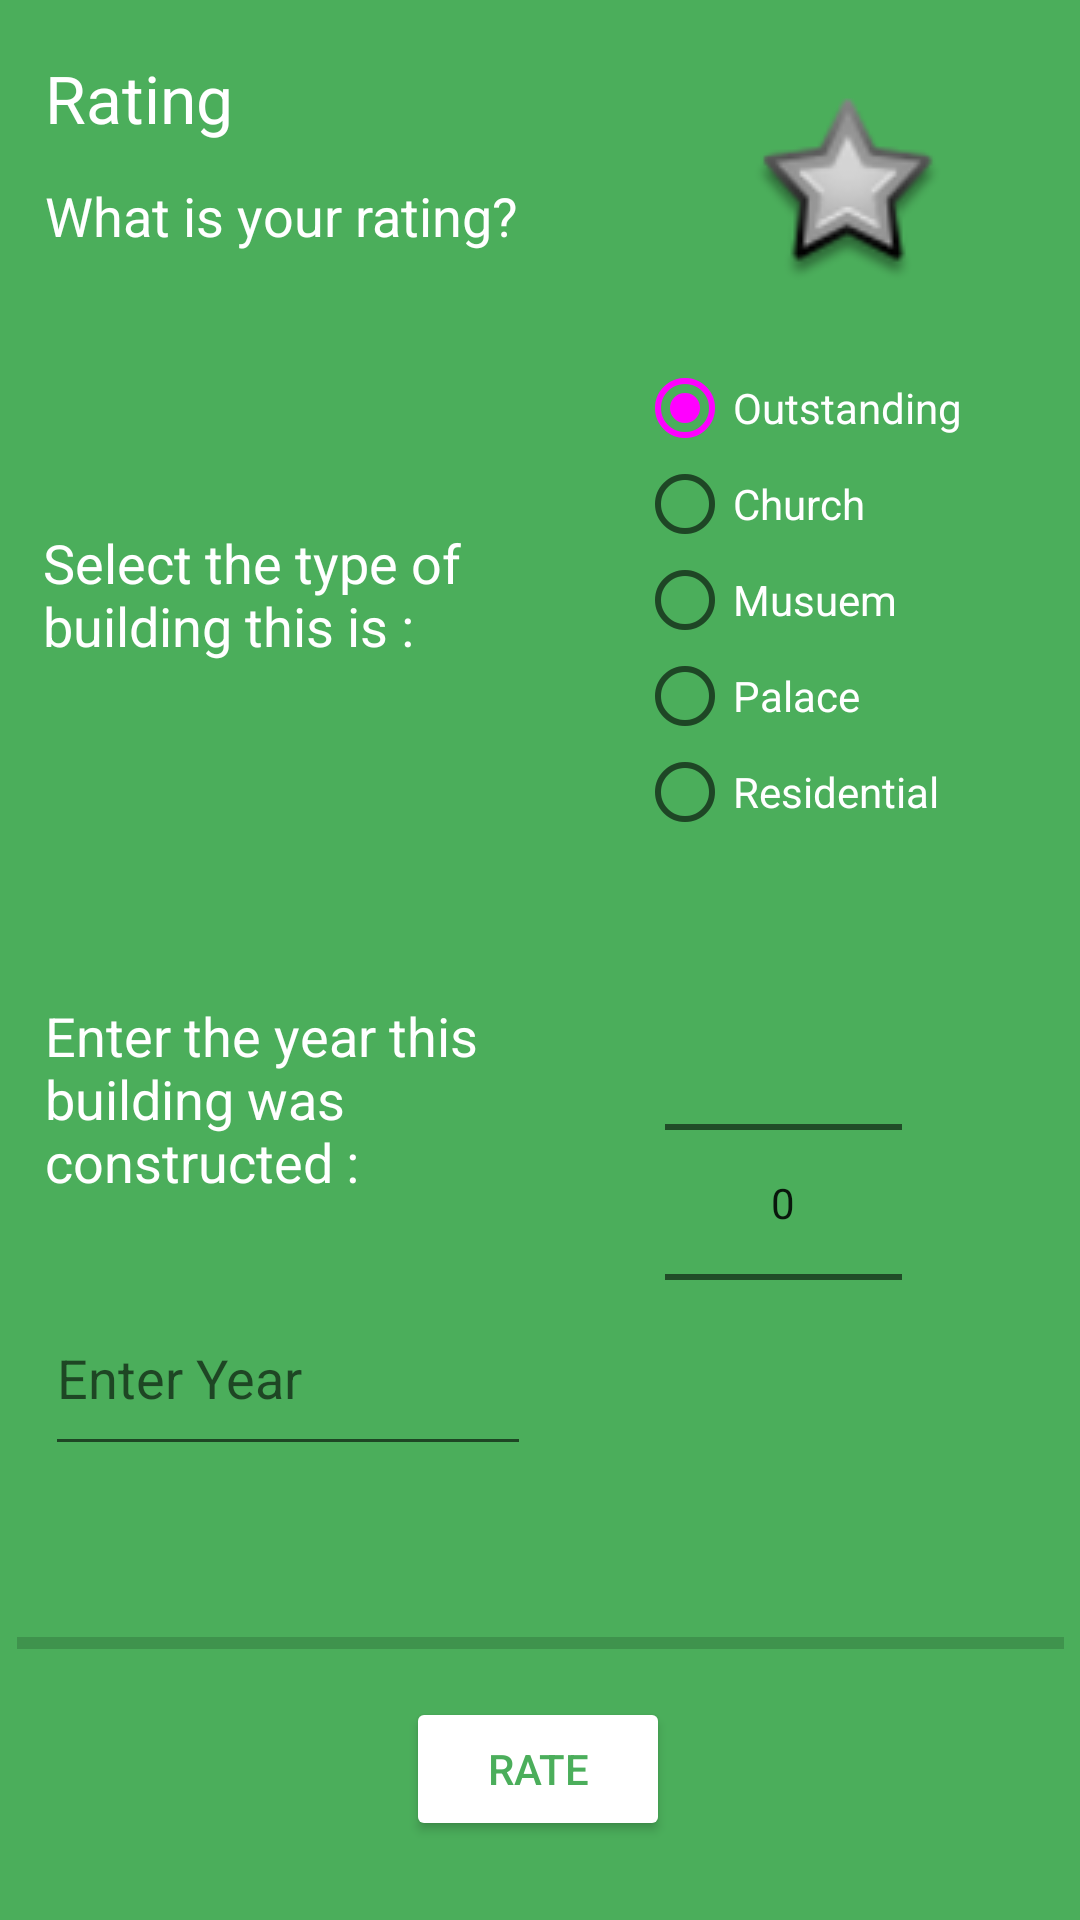

Icons on this 1080w x 1920h Android screen, each with the point to tap as (x,y):
star off: (847,185)
